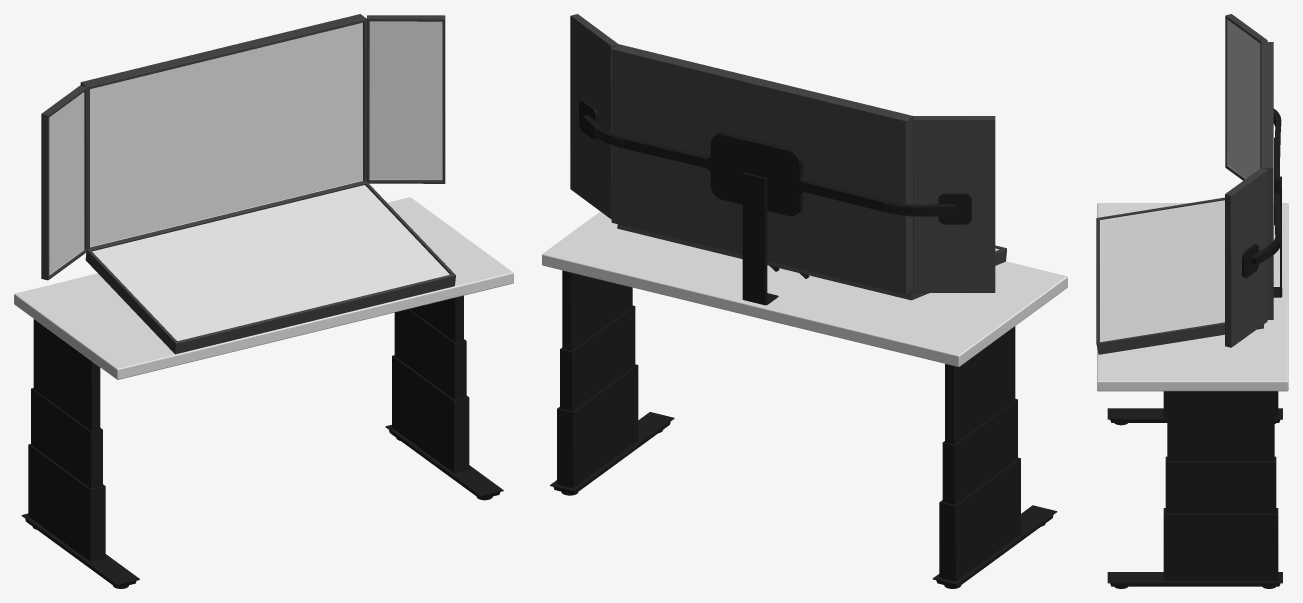
3 renders of one model, left to right at view 1: azimuth 30°, elevation 25°; view 2: azimuth 150°, elevation 25°; view 3: azimuth 270°, elevation 25°, orthographic. The views are drawn at different scales.
Parts seen in each view (by area): view 1: MainMonitor, Toggle_MonitorBottom, Toggle_MonitorRight, DeskLegBottom, DeskBase, Lift50_DeskLegMiddle, Toggle_MonitorLeft, DeskBase_withHinge, Lift100_DeskLegUpper, DeskFoot; view 2: MainMonitor, DeskBase, Toggle_MonitorLeft, DeskLegBottom, Lift50_DeskLegMiddle, Lift100_DeskLegUpper, MainBackplatewithSideMonitors, Toggle_MonitorRight, DeskBase_withHinge, Plane.055, MainBackplate, DeskFoot (+2 smaller); view 3: Toggle_MonitorBottom, DeskBase, DeskLegBottom, Lift100_DeskLegUpper, Toggle_MonitorRight, Lift50_DeskLegMiddle, Toggle_MonitorLeft, DeskBase_withHinge, MainMonitor, DeskFoot, MainBackplatewithSideMonitors, SideMonitorsBackplate (+1 smaller).
Boxes of the visible parts, box(x1,y1,x2,y2) form: MainMonitor: box(80, 14, 366, 249); Toggle_MonitorBottom: box(85, 181, 455, 354); Toggle_MonitorRight: box(367, 15, 445, 183); DeskLegBottom: box(28, 355, 469, 561); DeskBase: box(15, 197, 513, 379); Lift50_DeskLegMiddle: box(31, 309, 466, 488); Toggle_MonitorLeft: box(41, 85, 87, 280); DeskBase_withHinge: box(14, 198, 513, 379); Lift100_DeskLegUpper: box(33, 295, 463, 431); DeskFoot: box(21, 425, 503, 587); MainMonitor: box(611, 44, 912, 294); DeskBase: box(542, 211, 1066, 366); Toggle_MonitorLeft: box(913, 116, 995, 292); DeskLegBottom: box(557, 364, 1020, 581); Lift50_DeskLegMiddle: box(560, 305, 1017, 504); Lift100_DeskLegUpper: box(562, 270, 1015, 444); MainBackplatewithSideMonitors: box(581, 115, 956, 216); Toggle_MonitorRight: box(570, 14, 617, 219); DeskBase_withHinge: box(542, 214, 1067, 366); Plane.055: box(742, 172, 778, 305); MainBackplate: box(718, 132, 802, 216); DeskFoot: box(550, 412, 1057, 587); Toggle_MonitorBottom: box(1096, 197, 1263, 354); DeskBase: box(1097, 203, 1288, 391); DeskLegBottom: box(1163, 391, 1278, 580); Lift100_DeskLegUpper: box(1167, 391, 1274, 461); Toggle_MonitorRight: box(1225, 168, 1267, 347); Lift50_DeskLegMiddle: box(1165, 456, 1276, 513); Toggle_MonitorLeft: box(1225, 14, 1267, 180); DeskBase_withHinge: box(1097, 286, 1288, 391); MainMonitor: box(1261, 42, 1273, 319); DeskFoot: box(1107, 408, 1282, 586); MainBackplatewithSideMonitors: box(1251, 108, 1281, 264); SideMonitorsBackplate: box(1242, 244, 1258, 277).
Size of the model in its own units: 1.75 by 1.8 by 0.7832.
4 materials, 1 textured.
